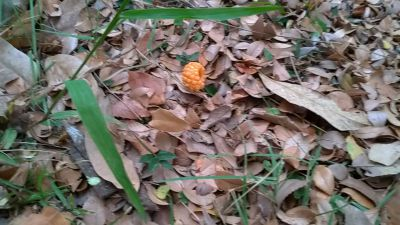eggs: (179, 59, 209, 91)
